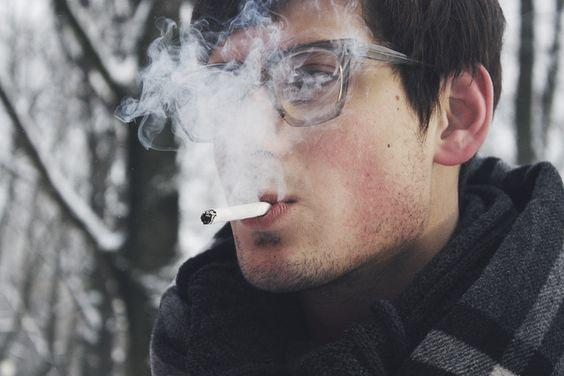cigarette: (199, 202, 273, 225)
